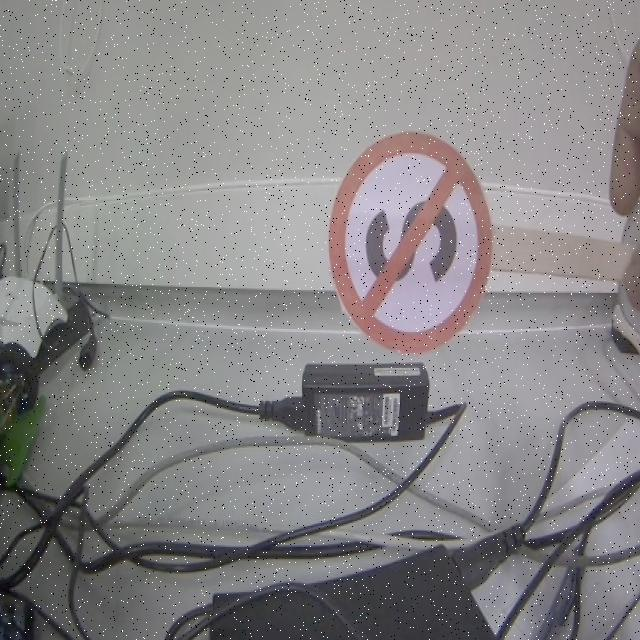Rambu Berhenti: (327, 131, 491, 353)
